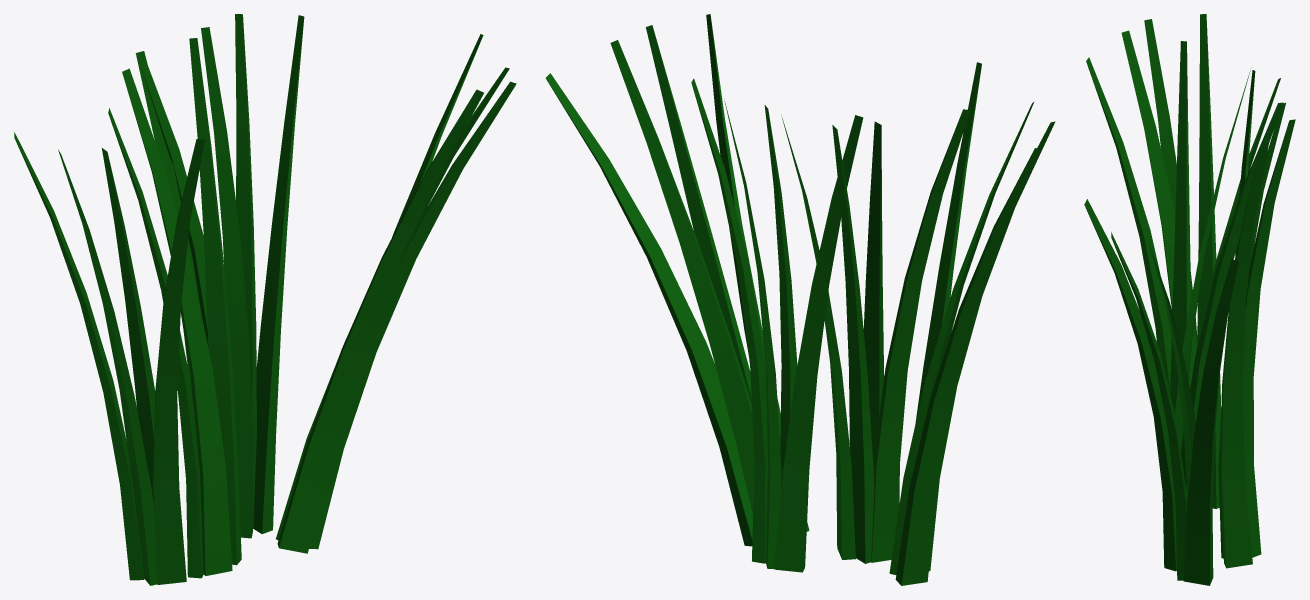
File: grass.fbx
The picture shows the model from 3 angles, left to right: view 1: azimuth 30°, elevation 25°; view 2: azimuth 150°, elevation 25°; view 3: azimuth 270°, elevation 25°; orthographic projection. The views are drawn at different scales.
Parts seen in each view (by area): view 1: grass; view 2: grass; view 3: grass.
Boxes of the visible parts, <box> form: grass: <box>14,14,516,585</box>; grass: <box>545,14,1055,585</box>; grass: <box>1084,14,1295,585</box>.
Size of the model in its own units: 1242 by 1207 by 508.
